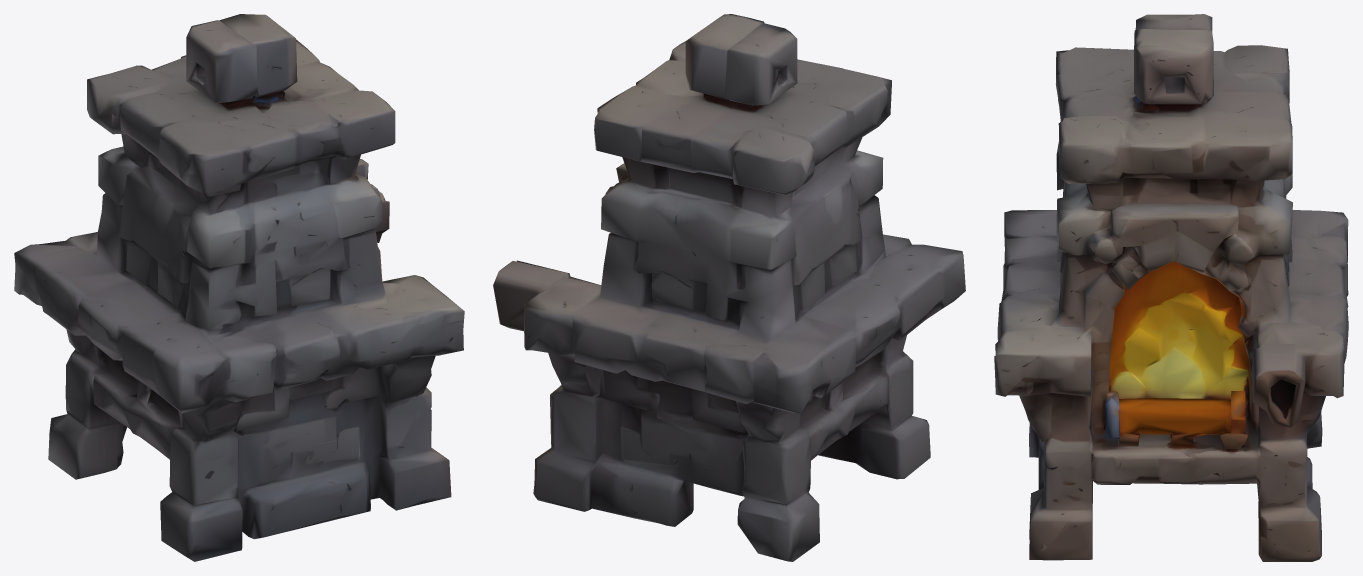
The model's file is furnace.glb.
3 views of the same model, side by side, from view 1: azimuth 30°, elevation 25°; view 2: azimuth 150°, elevation 25°; view 3: azimuth 270°, elevation 25° (orthographic). The views are drawn at different scales.
Parts seen in each view (by area): view 1: tripo_node_b2f149e5-b0c4-4e96-b94e-ac044126ae33; view 2: tripo_node_b2f149e5-b0c4-4e96-b94e-ac044126ae33; view 3: tripo_node_b2f149e5-b0c4-4e96-b94e-ac044126ae33.
Part boxes in pixels (bbox=[...]): tripo_node_b2f149e5-b0c4-4e96-b94e-ac044126ae33: bbox=[14, 14, 464, 561]; tripo_node_b2f149e5-b0c4-4e96-b94e-ac044126ae33: bbox=[493, 14, 965, 561]; tripo_node_b2f149e5-b0c4-4e96-b94e-ac044126ae33: bbox=[994, 14, 1348, 561].
Size of the model in its own units: 0.7746 by 1 by 0.6952.
1 material, 1 textured.
